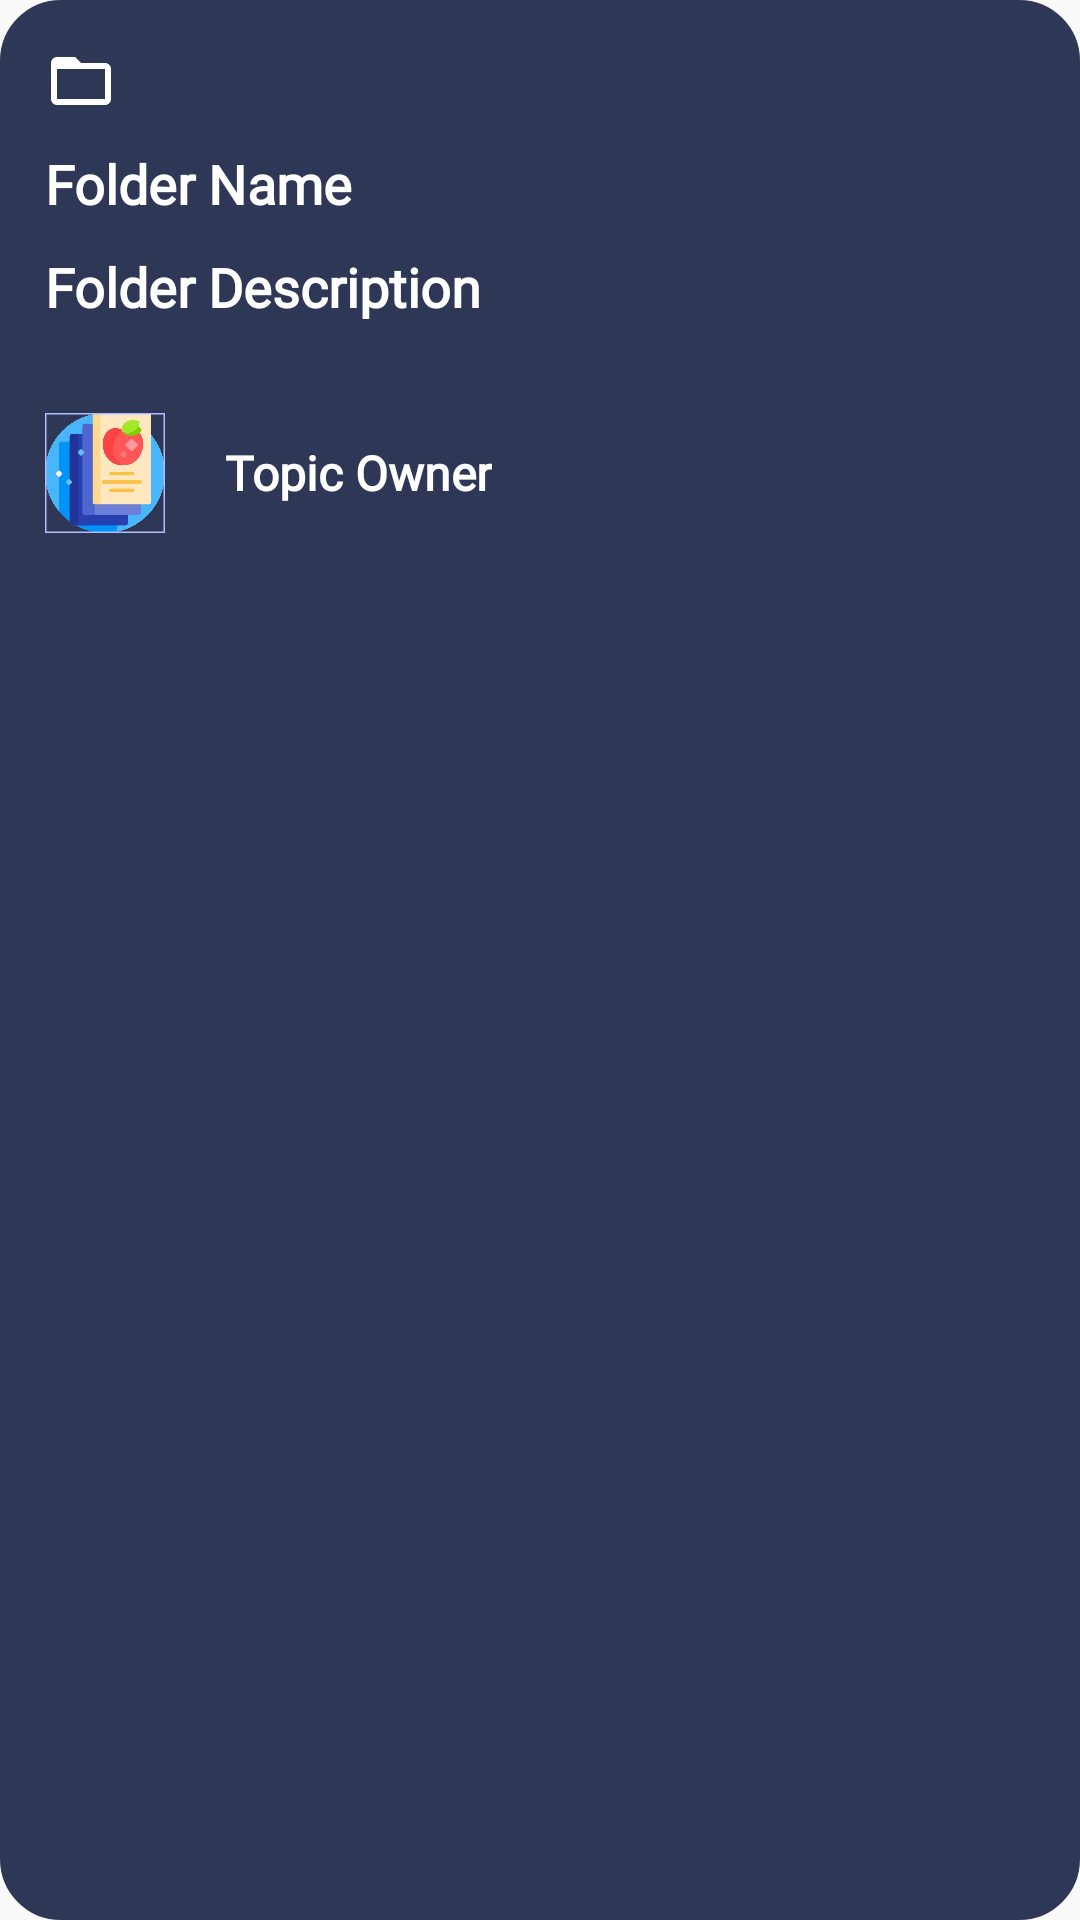

Screen size 1080*1920. Icon name, then its center in pixels as point (x, y):
flashcard: point (105, 473)
